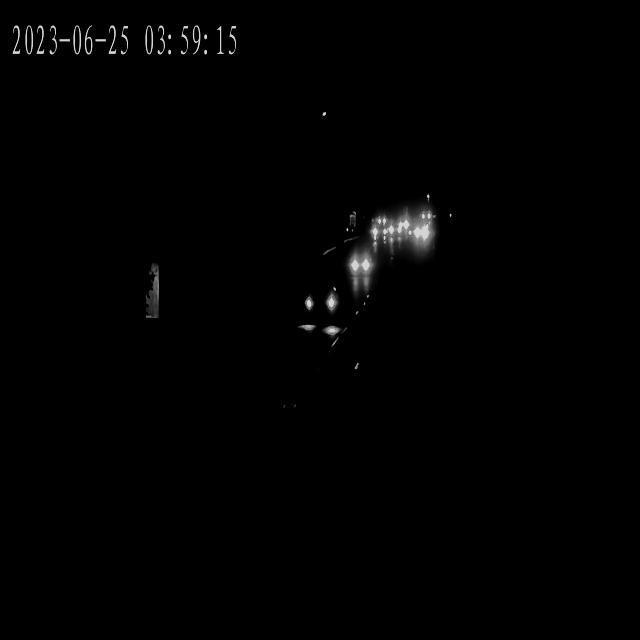Car: (299, 281, 339, 320), (343, 249, 376, 278), (408, 226, 432, 244), (370, 226, 391, 243), (385, 220, 406, 235), (372, 214, 388, 227)
